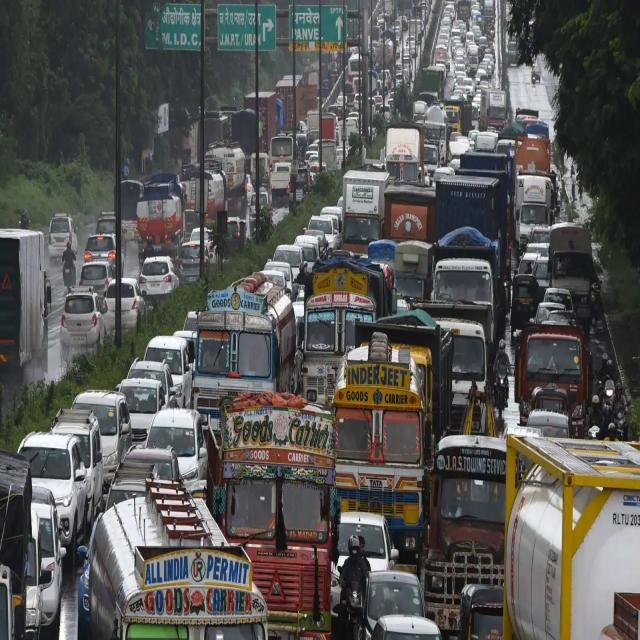Car: (18, 338, 191, 638), (331, 511, 441, 640), (121, 240, 199, 329), (72, 227, 115, 333), (60, 291, 102, 359), (48, 213, 75, 263), (205, 247, 210, 268), (146, 344, 150, 357), (185, 464, 189, 471)
Truck: (90, 153, 510, 639), (504, 433, 640, 639), (385, 124, 424, 182)
Two Wheeler: (331, 533, 370, 640), (494, 340, 510, 426)
